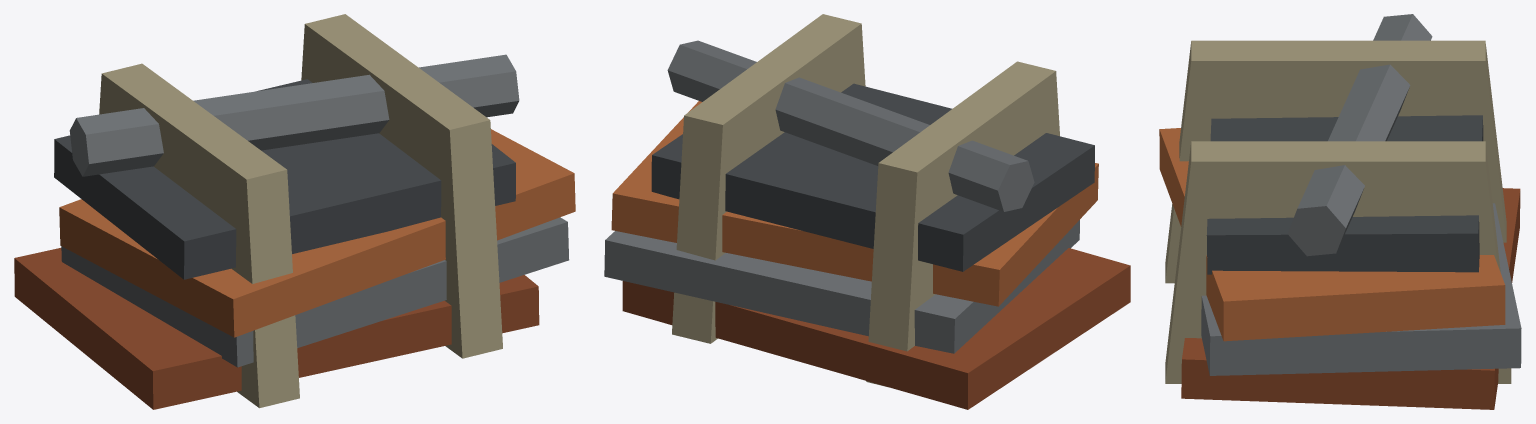
File: item_scrap.glb
3 views of the same model, side by side, from view 1: azimuth 30°, elevation 25°; view 2: azimuth 150°, elevation 25°; view 3: azimuth 270°, elevation 25° (orthographic). The views are drawn at different scales.
Visible parts, largest first — view 1: scrap; view 2: scrap; view 3: scrap.
Boxes of the visible parts, left/top/right/bottom form: scrap: left=14, top=14, right=575, bottom=409; scrap: left=604, top=14, right=1130, bottom=409; scrap: left=1159, top=14, right=1521, bottom=409.
Size of the model in its own units: 0.4666 by 0.227 by 0.3346.
